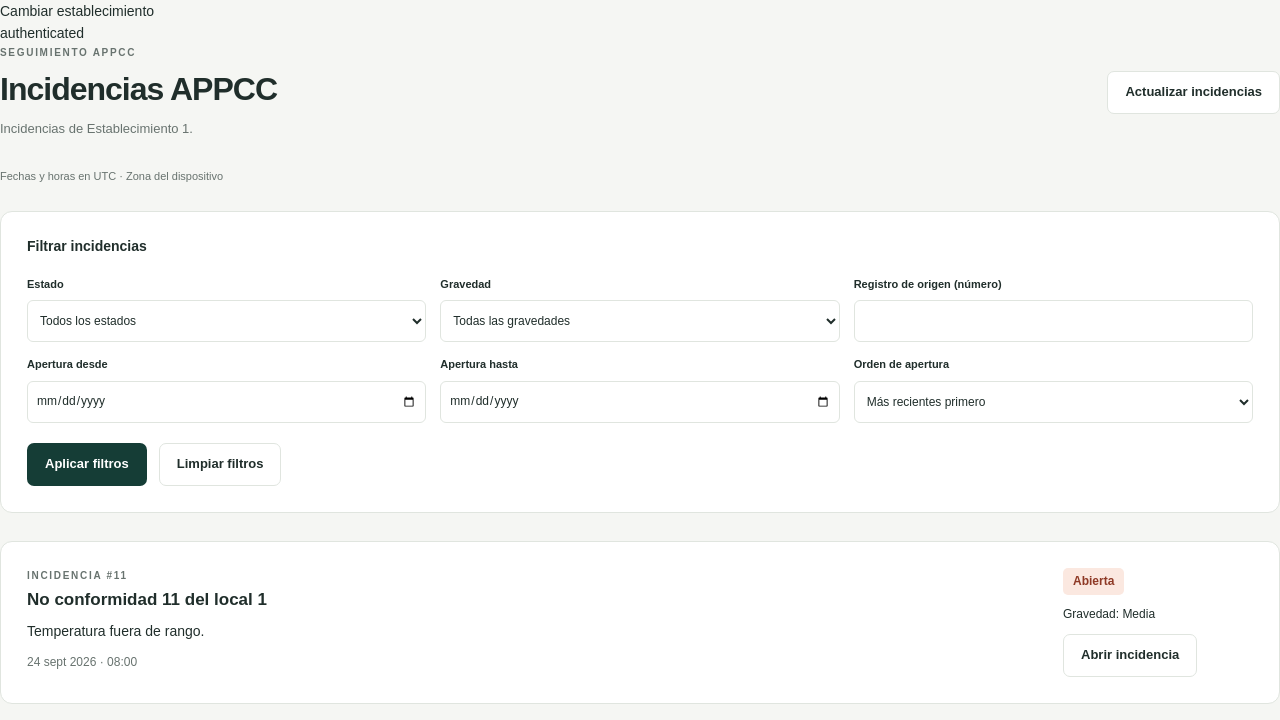
Test case: trabajador: consulta y permisos exactos en detalle
Click the button with aria-label "Abrir incidencia #11". click: (1130, 655)
box: [1063,634,1197,677]
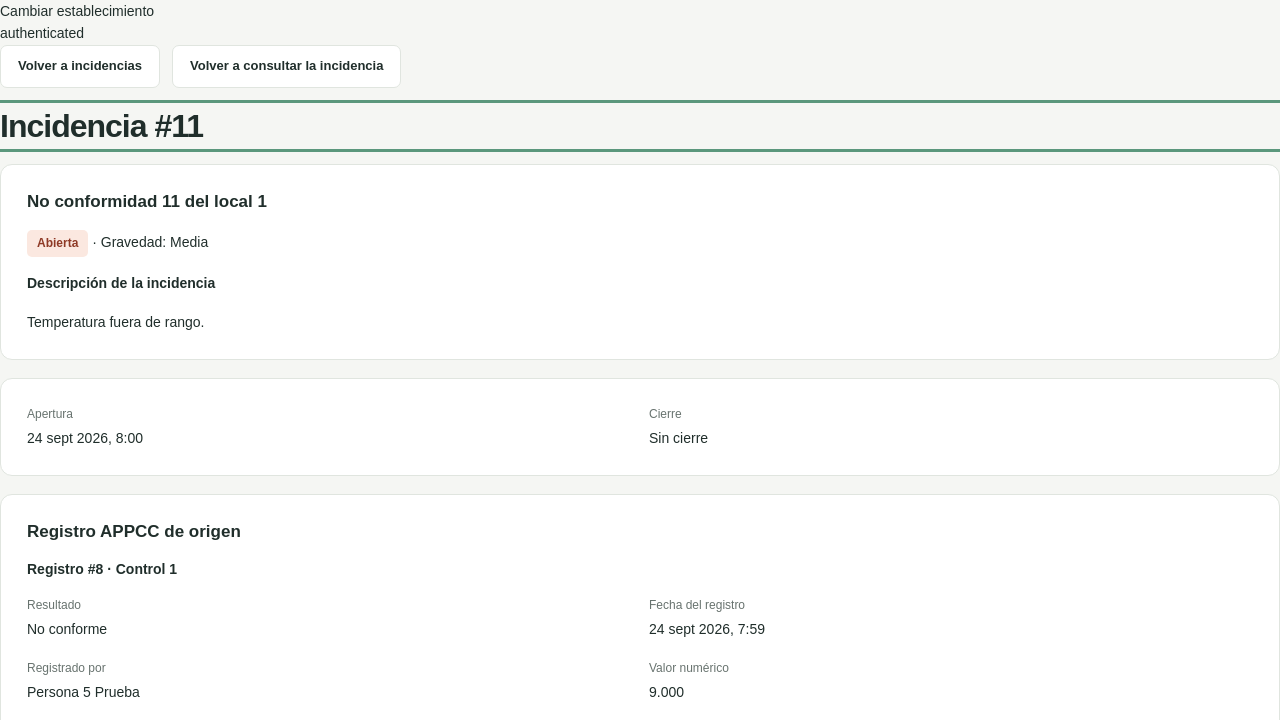
Now the text "9.000" is shown, box [649,684,684,700]
Now the text "Persona 5 Prueba" is shown, box [27,684,140,700]
